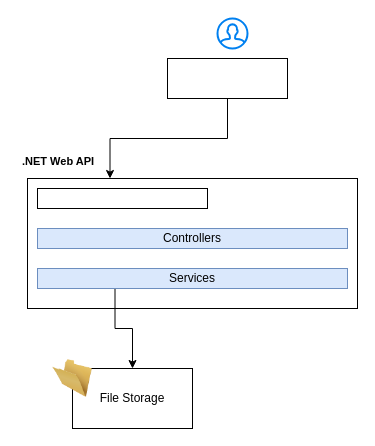
Image size: 375x446. Some labels were removed from this diagram. The centre of each missing label's shape, as x and y in pixels:
"Client" goes at point (227, 78).
"Input Validation" goes at point (122, 198).
